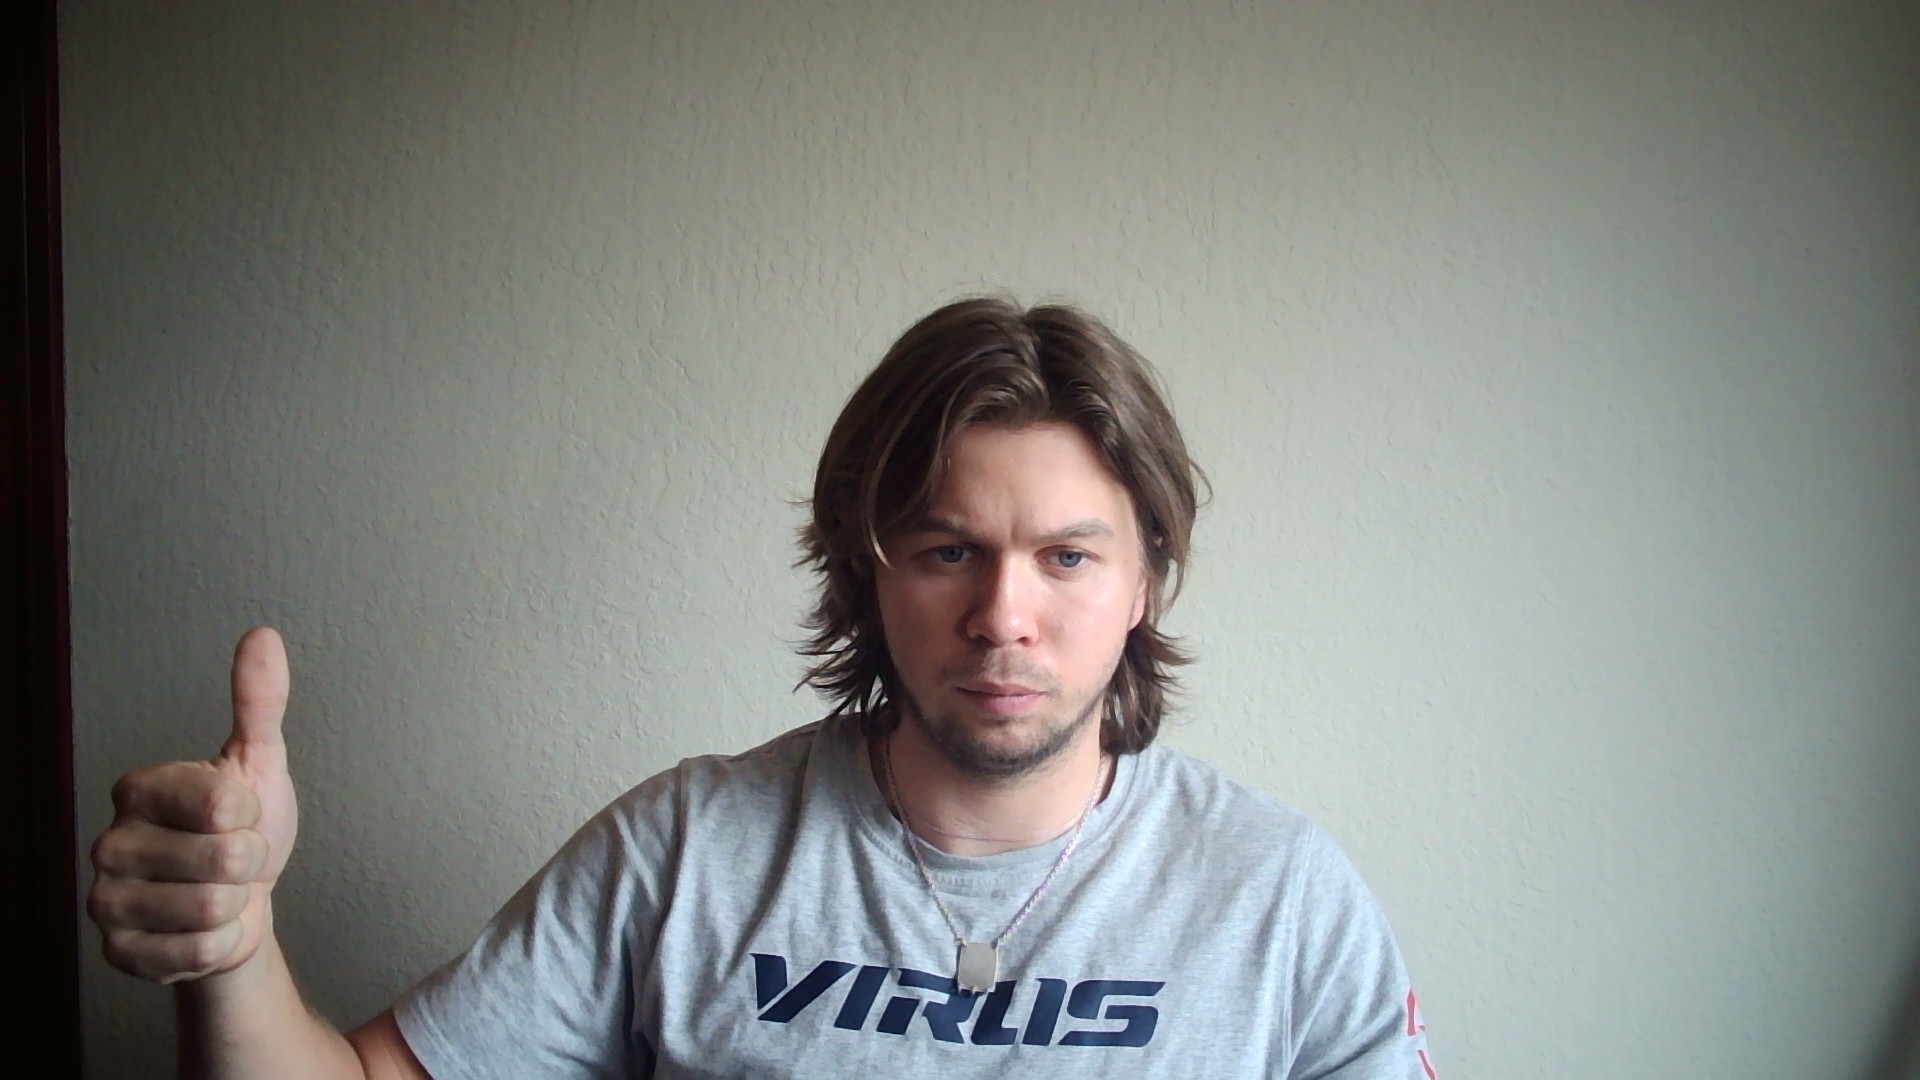good: (86, 624, 305, 988)
